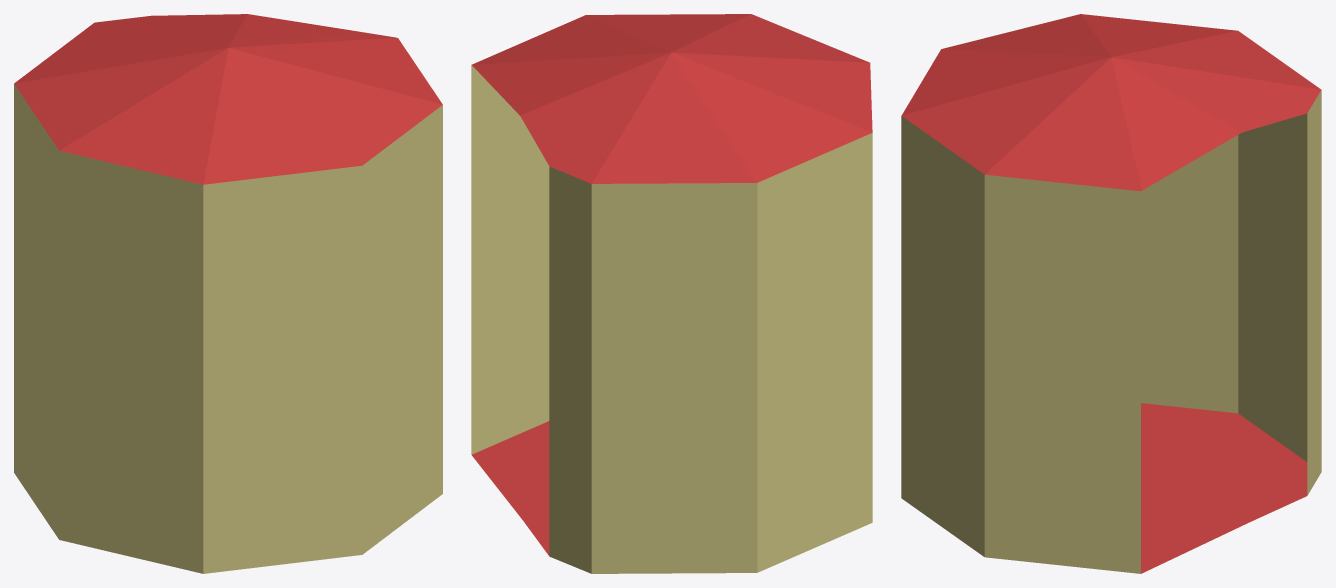
3 renders of one model, left to right at view 1: azimuth 30°, elevation 25°; view 2: azimuth 150°, elevation 25°; view 3: azimuth 270°, elevation 25°, orthographic.
Parts seen in each view (by area): view 1: group_4, group_3; view 2: group_4, group_3, group_5; view 3: group_4, group_3, group_5.
Boxes of the visible parts, box(x1,y1,x2,y2) form: group_4: box(14, 84, 442, 573); group_3: box(14, 14, 442, 184); group_4: box(471, 65, 872, 573); group_3: box(471, 14, 872, 183); group_5: box(472, 421, 549, 555); group_4: box(901, 90, 1321, 573); group_3: box(901, 14, 1321, 191); group_5: box(1141, 403, 1307, 573).
Size of the model in its own units: 6.64 by 6.64 by 7.47.
